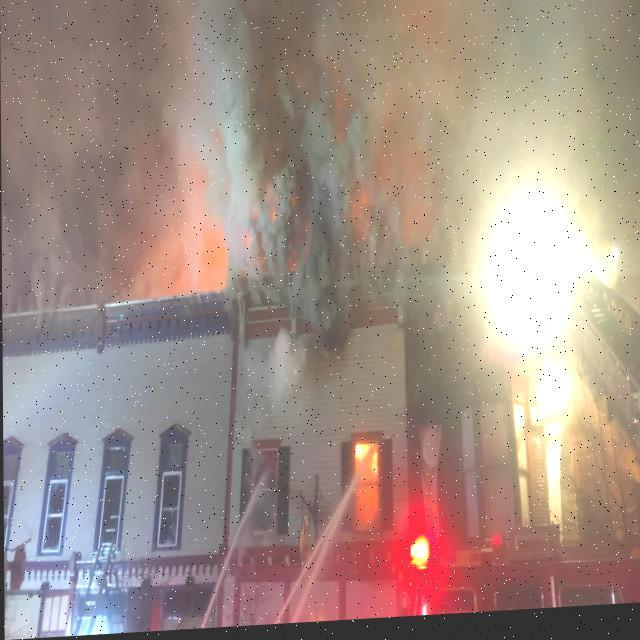Fire: (355, 447, 369, 467), (372, 455, 378, 476)
